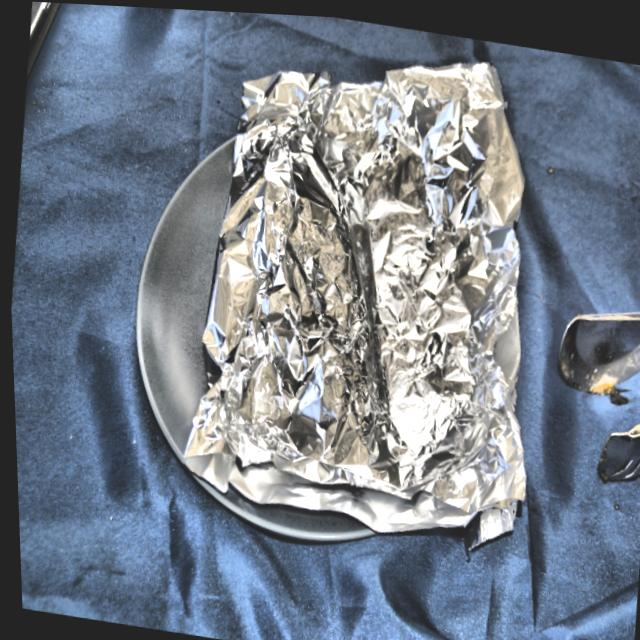Foil: (155, 7, 570, 563)
